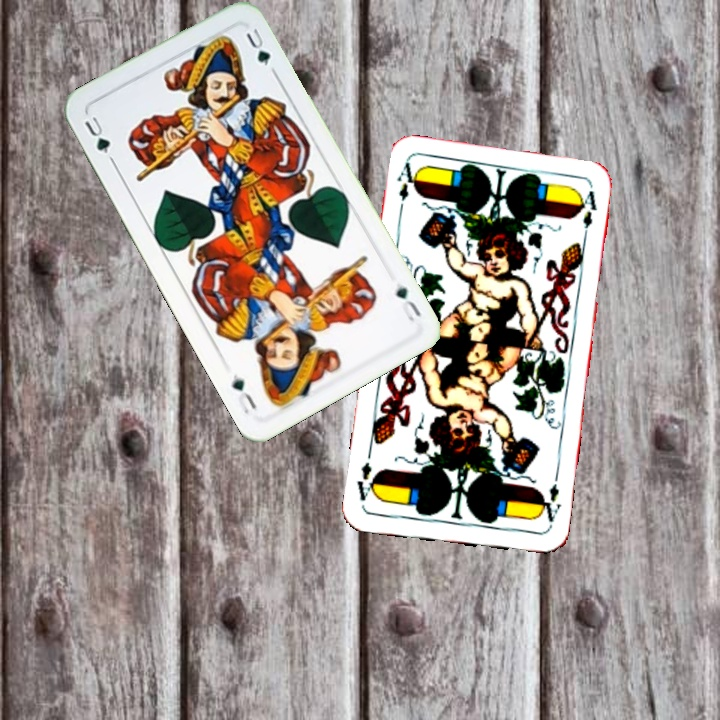EA: (535, 479, 563, 525), (393, 159, 419, 204)
GU: (80, 111, 113, 157), (391, 283, 424, 324)
